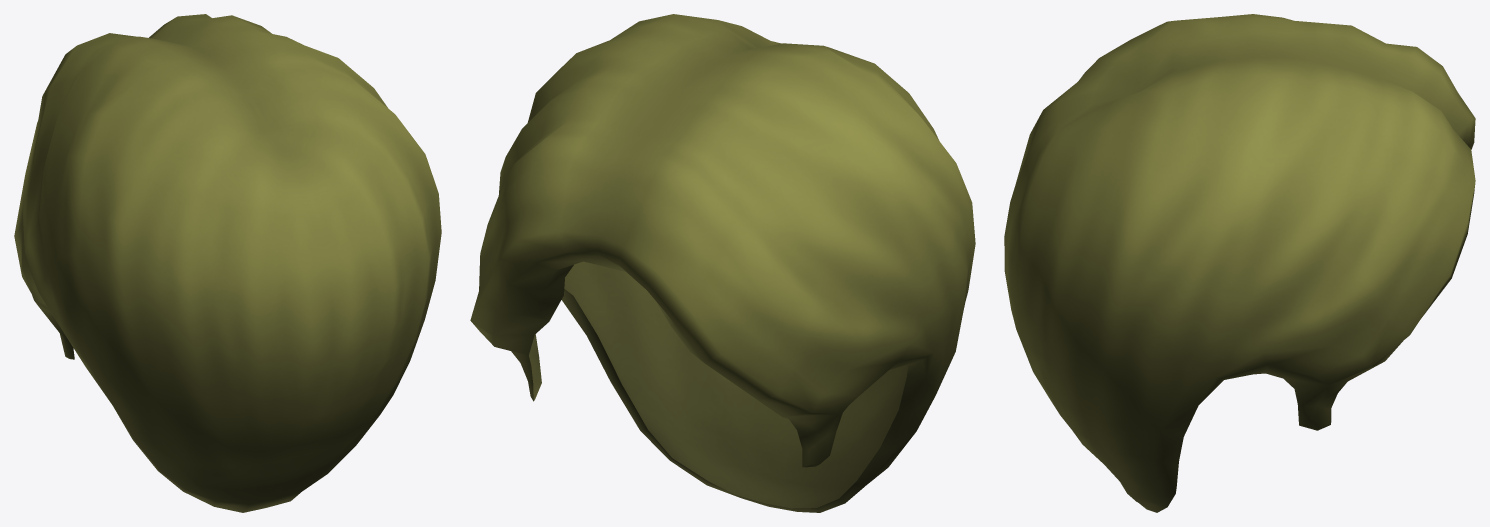
The model's file is Hair_Male_003_textured_yellow.glb.
3 views of the same model, side by side, from view 1: azimuth 30°, elevation 25°; view 2: azimuth 150°, elevation 25°; view 3: azimuth 270°, elevation 25° (orthographic). The views are drawn at different scales.
Visible parts, largest first — view 1: Hair_Male_003; view 2: Hair_Male_003; view 3: Hair_Male_003.
Boxes of the visible parts, <box> form: Hair_Male_003: <box>14,14,441,512</box>; Hair_Male_003: <box>470,14,975,512</box>; Hair_Male_003: <box>1004,14,1475,512</box>.
Size of the model in its own units: 0.2155 by 0.2438 by 0.2307.
Materials: 1 (1 with a texture image).
